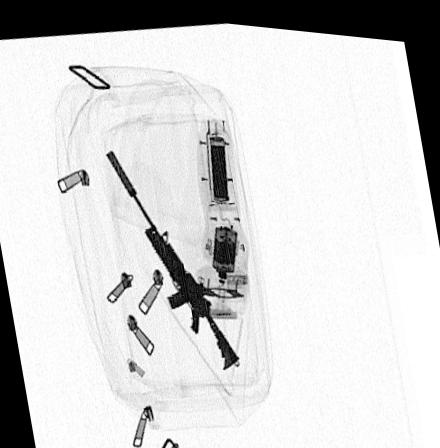Gun: (103, 146, 239, 367)
